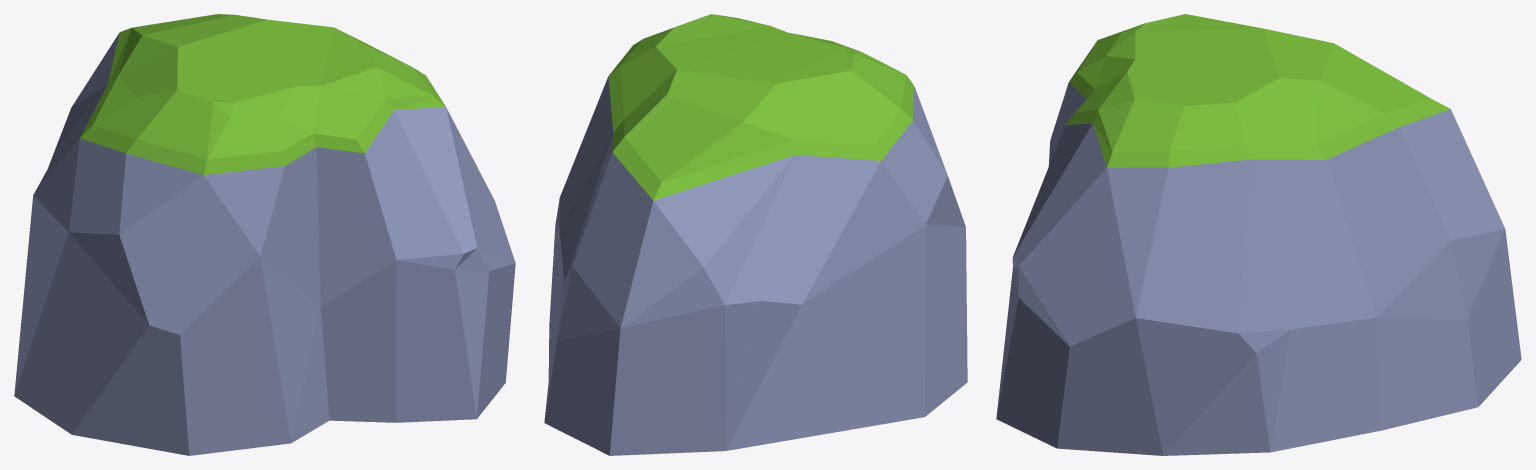
Rendered from Rock_11.fbx.
The picture shows the model from 3 angles, left to right: view 1: azimuth 30°, elevation 25°; view 2: azimuth 150°, elevation 25°; view 3: azimuth 270°, elevation 25°; orthographic projection. The views are drawn at different scales.
Parts seen in each view (by area): view 1: Rock_11; view 2: Rock_11; view 3: Rock_11.
Boxes of the visible parts, bbox=[...] form: Rock_11: bbox=[14, 14, 515, 455]; Rock_11: bbox=[544, 14, 967, 455]; Rock_11: bbox=[996, 14, 1521, 455].
Bounding box in the file's own units: 6.34 × 4.64 × 7.04.
